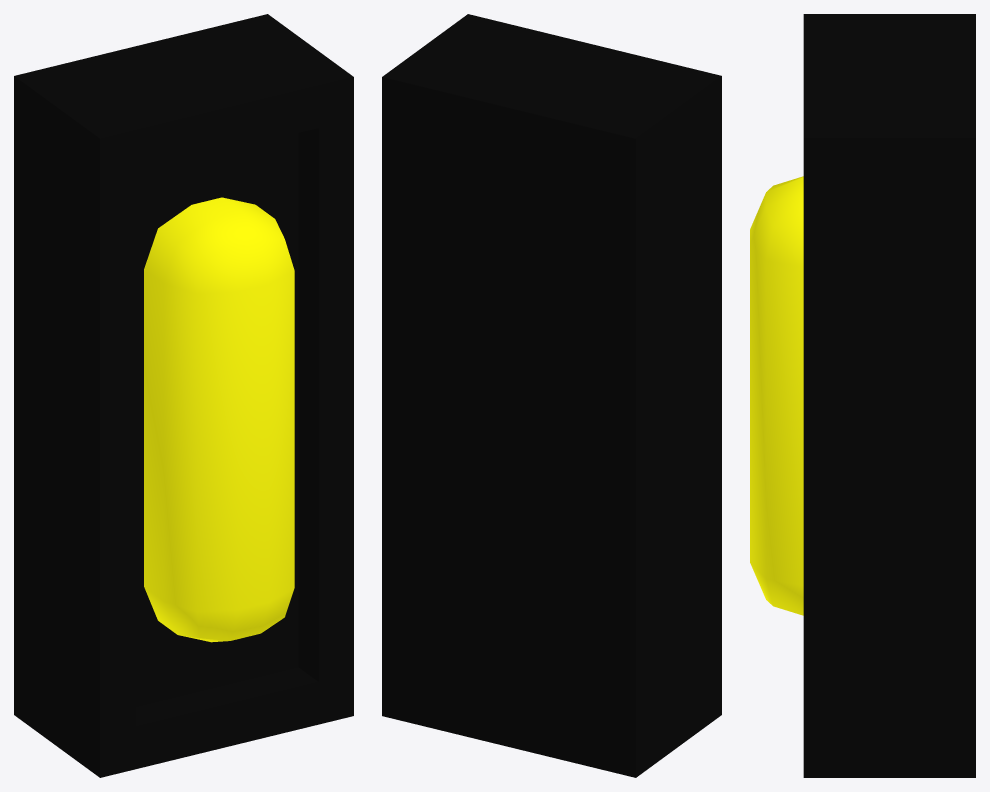
Rendered from Lamp_Yellow.glb.
The picture shows the model from 3 angles, left to right: view 1: azimuth 30°, elevation 25°; view 2: azimuth 150°, elevation 25°; view 3: azimuth 270°, elevation 25°; orthographic projection.
Parts seen in each view (by area): view 1: Lamp; view 2: Lamp; view 3: Lamp.
Part boxes in pixels (<box>): Lamp: <box>14,14,353,777</box>; Lamp: <box>382,14,721,777</box>; Lamp: <box>750,14,975,777</box>.
Size of what is drawn, in the model's own units: 0.3973 by 0.9559 by 0.3059.
1 material, 1 textured.
